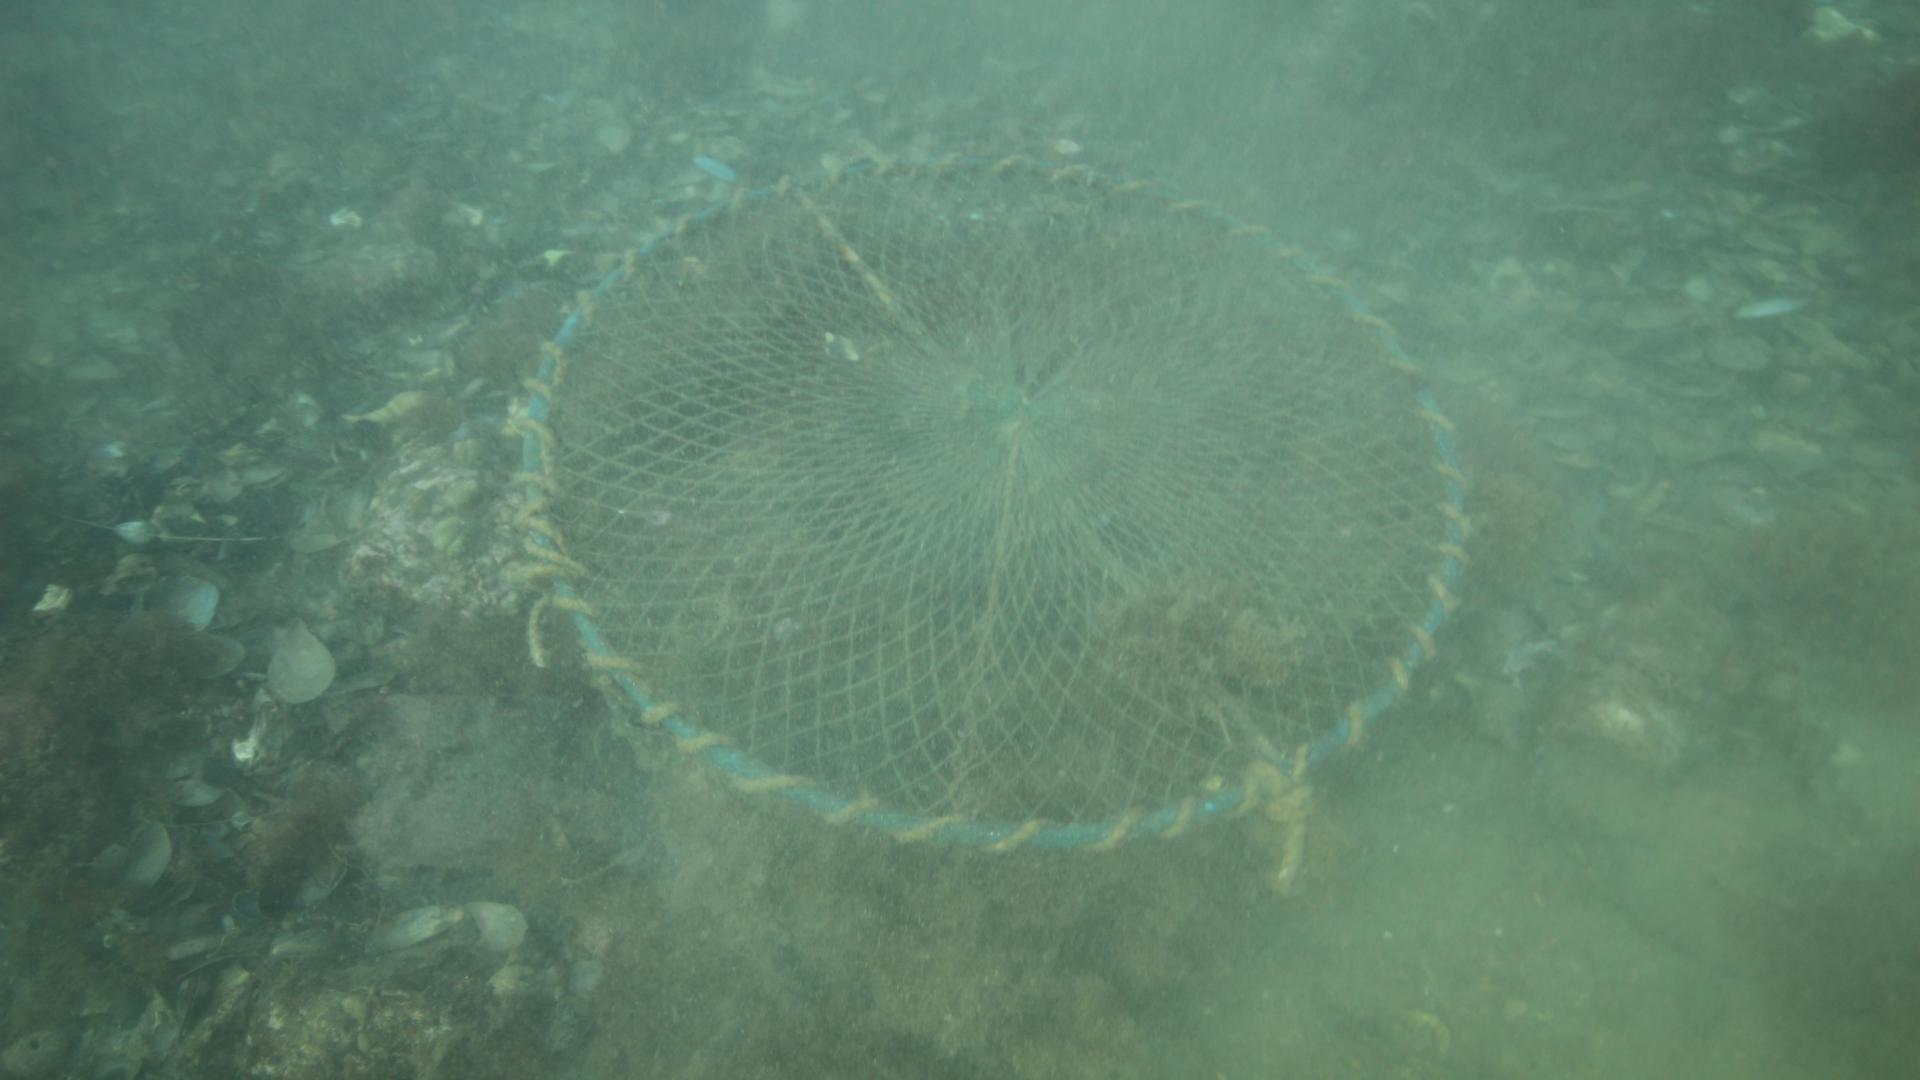circular fish trap: (513, 150, 1466, 851)
